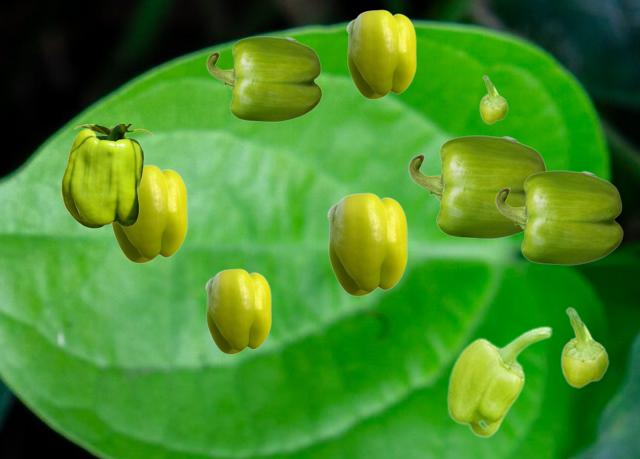bell_pepper: (408, 135, 546, 238), (495, 170, 622, 264), (446, 325, 552, 437), (206, 36, 321, 121), (61, 124, 151, 227), (327, 192, 406, 295), (111, 164, 186, 262), (346, 9, 415, 98), (205, 268, 270, 353), (560, 307, 608, 387), (479, 75, 507, 123)
